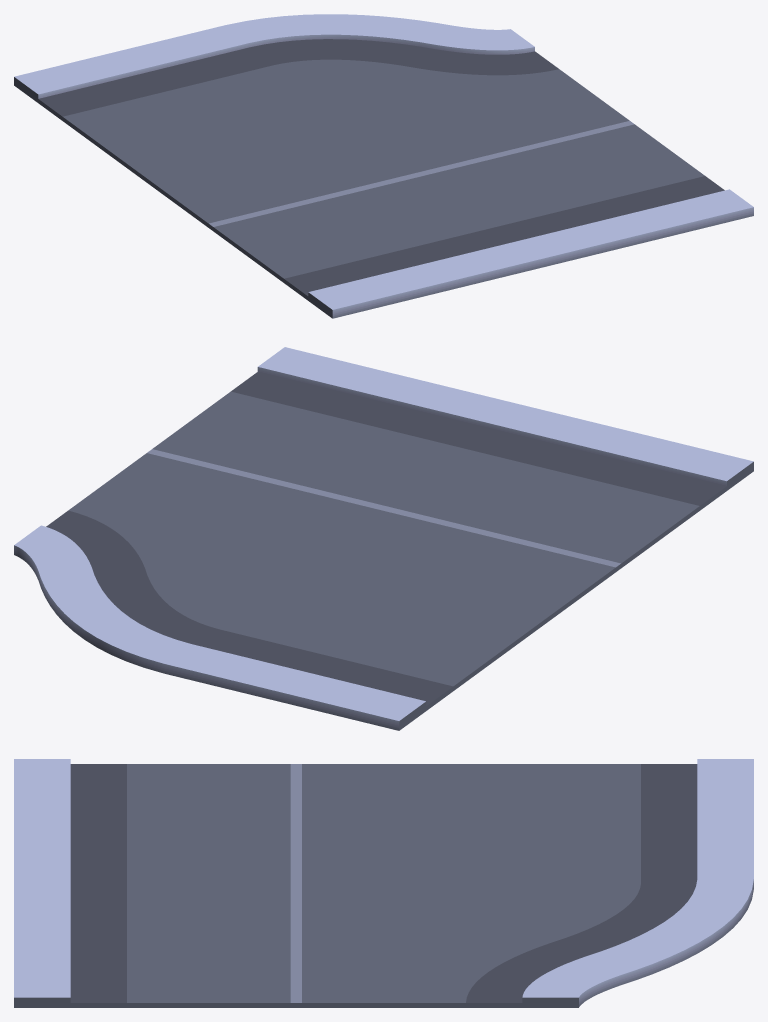
File: road-side-entry.glb
The picture shows the model from 3 angles, top to bottom: view 1: azimuth 30°, elevation 25°; view 2: azimuth 150°, elevation 25°; view 3: azimuth 270°, elevation 25°; orthographic projection. The views are drawn at different scales.
Visible parts, largest first — view 1: road-side-entry; view 2: road-side-entry; view 3: road-side-entry.
Boxes of the visible parts, x1,y1,x2,y2 form: road-side-entry: [14, 14, 753, 318]; road-side-entry: [14, 347, 753, 730]; road-side-entry: [14, 759, 753, 1007].
Bounding box in the file's own units: 1 × 0.02 × 1.31.
1 material, 1 textured.
